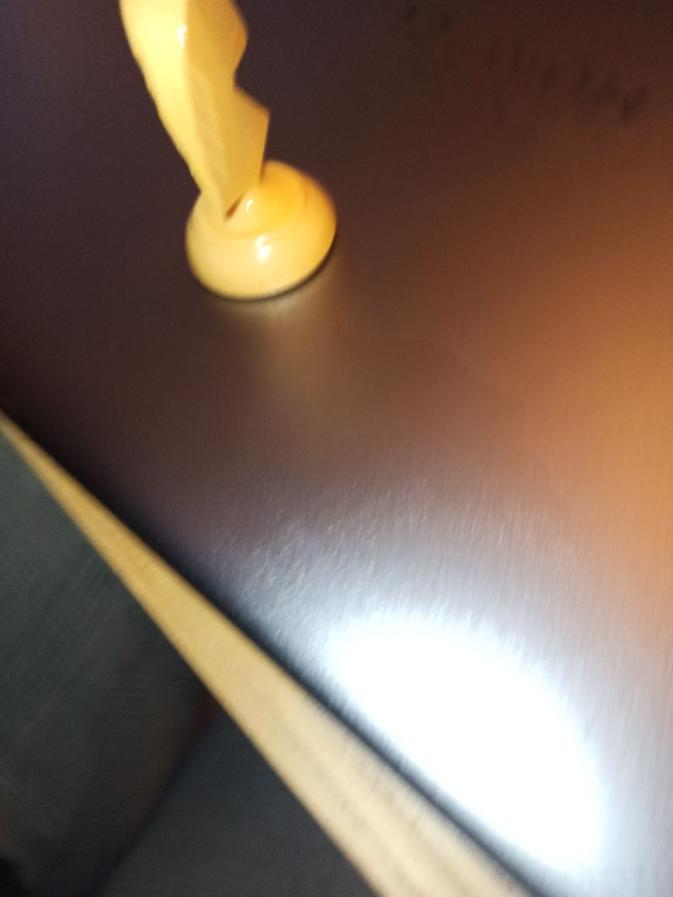wknight: (117, 1, 344, 301)
